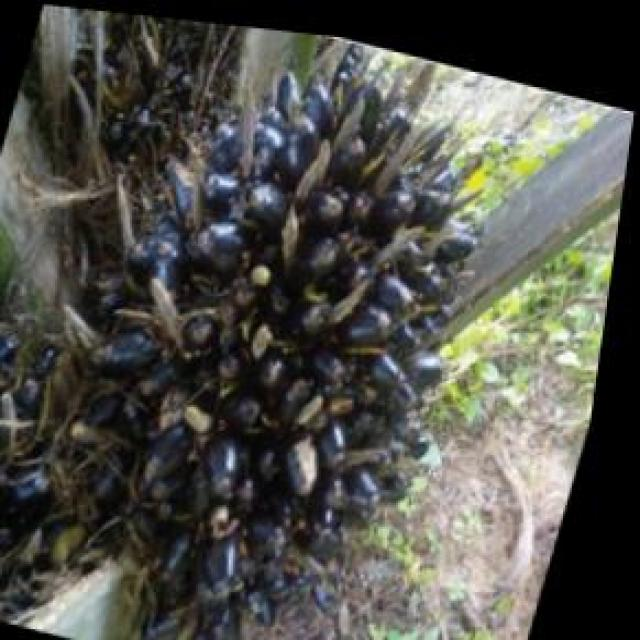Unripe: (3, 11, 529, 640), (0, 304, 106, 622)
